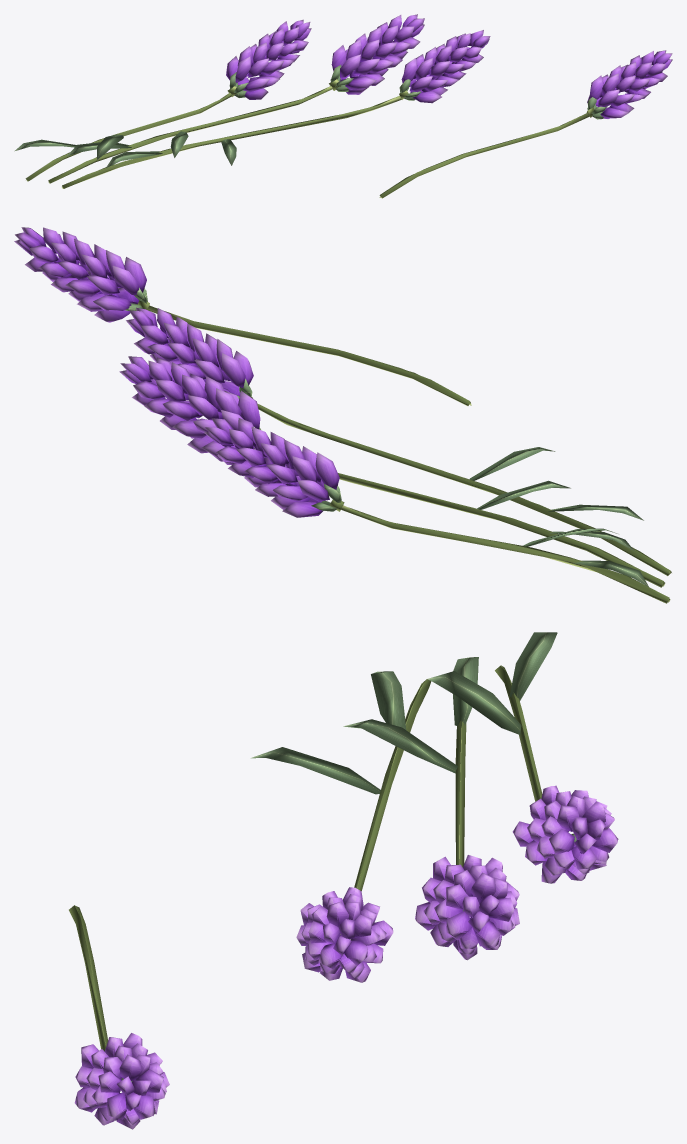
The model's file is NP_Lavender_Harvest_LOD1.fbx.
The picture shows the model from 3 angles, top to bottom: view 1: azimuth 30°, elevation 25°; view 2: azimuth 150°, elevation 25°; view 3: azimuth 270°, elevation 25°; orthographic projection. The views are drawn at different scales.
Visible parts, largest first — view 1: NP_Lavender_Harvest; view 2: NP_Lavender_Harvest; view 3: NP_Lavender_Harvest.
Boxes of the visible parts, x1,y1,x2,y2 form: NP_Lavender_Harvest: (14,14,672,198); NP_Lavender_Harvest: (14,227,671,603); NP_Lavender_Harvest: (69,632,618,1129).
Size of the model in its own units: 128 by 17.83 by 54.83.
1 material, 1 textured.
